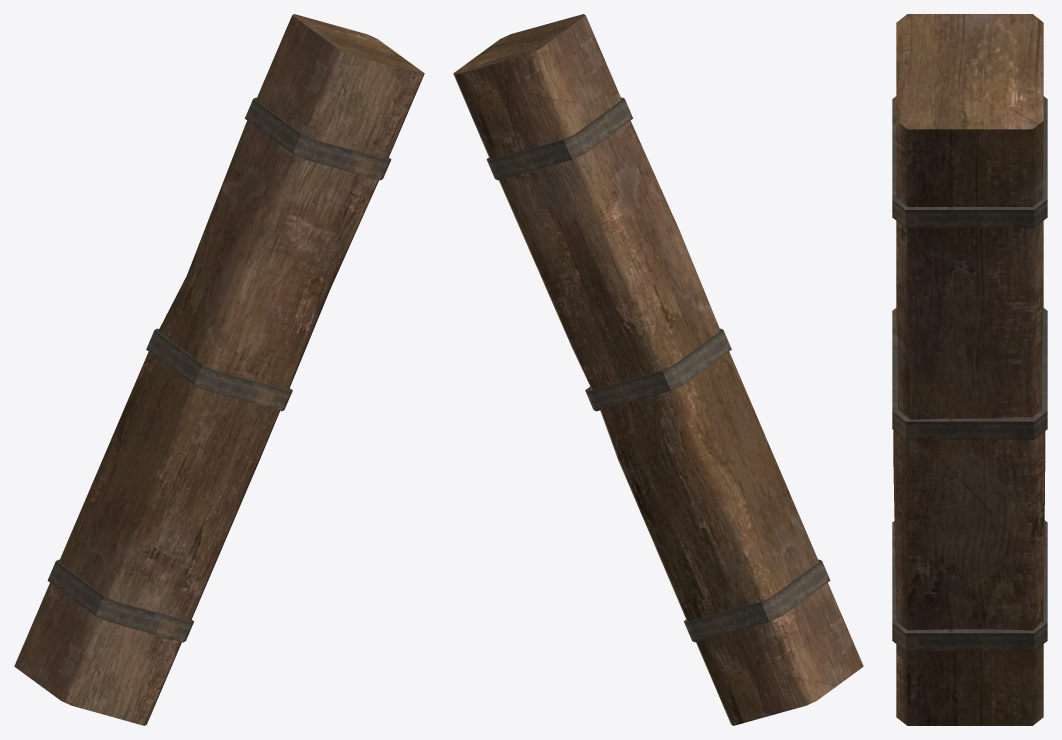
The picture shows the model from 3 angles, left to right: view 1: azimuth 30°, elevation 25°; view 2: azimuth 150°, elevation 25°; view 3: azimuth 270°, elevation 25°; orthographic projection. The views are drawn at different scales.
Parts seen in each view (by area): view 1: SM_BB_T3_Extended_Beam_Thick_Large_Steep_LOD0; view 2: SM_BB_T3_Extended_Beam_Thick_Large_Steep_LOD0; view 3: SM_BB_T3_Extended_Beam_Thick_Large_Steep_LOD0.
Part boxes in pixels (x1=…): SM_BB_T3_Extended_Beam_Thick_Large_Steep_LOD0: x1=14, y1=14, x2=424, y2=725; SM_BB_T3_Extended_Beam_Thick_Large_Steep_LOD0: x1=453, y1=14, x2=863, y2=725; SM_BB_T3_Extended_Beam_Thick_Large_Steep_LOD0: x1=892, y1=14, x2=1047, y2=725.
Size of the model in its own units: 1.97 by 3.26 by 0.5477.
Materials: 2 (2 with a texture image).
